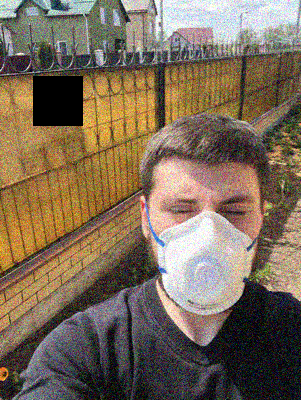with_mask: (151, 179, 260, 316)
